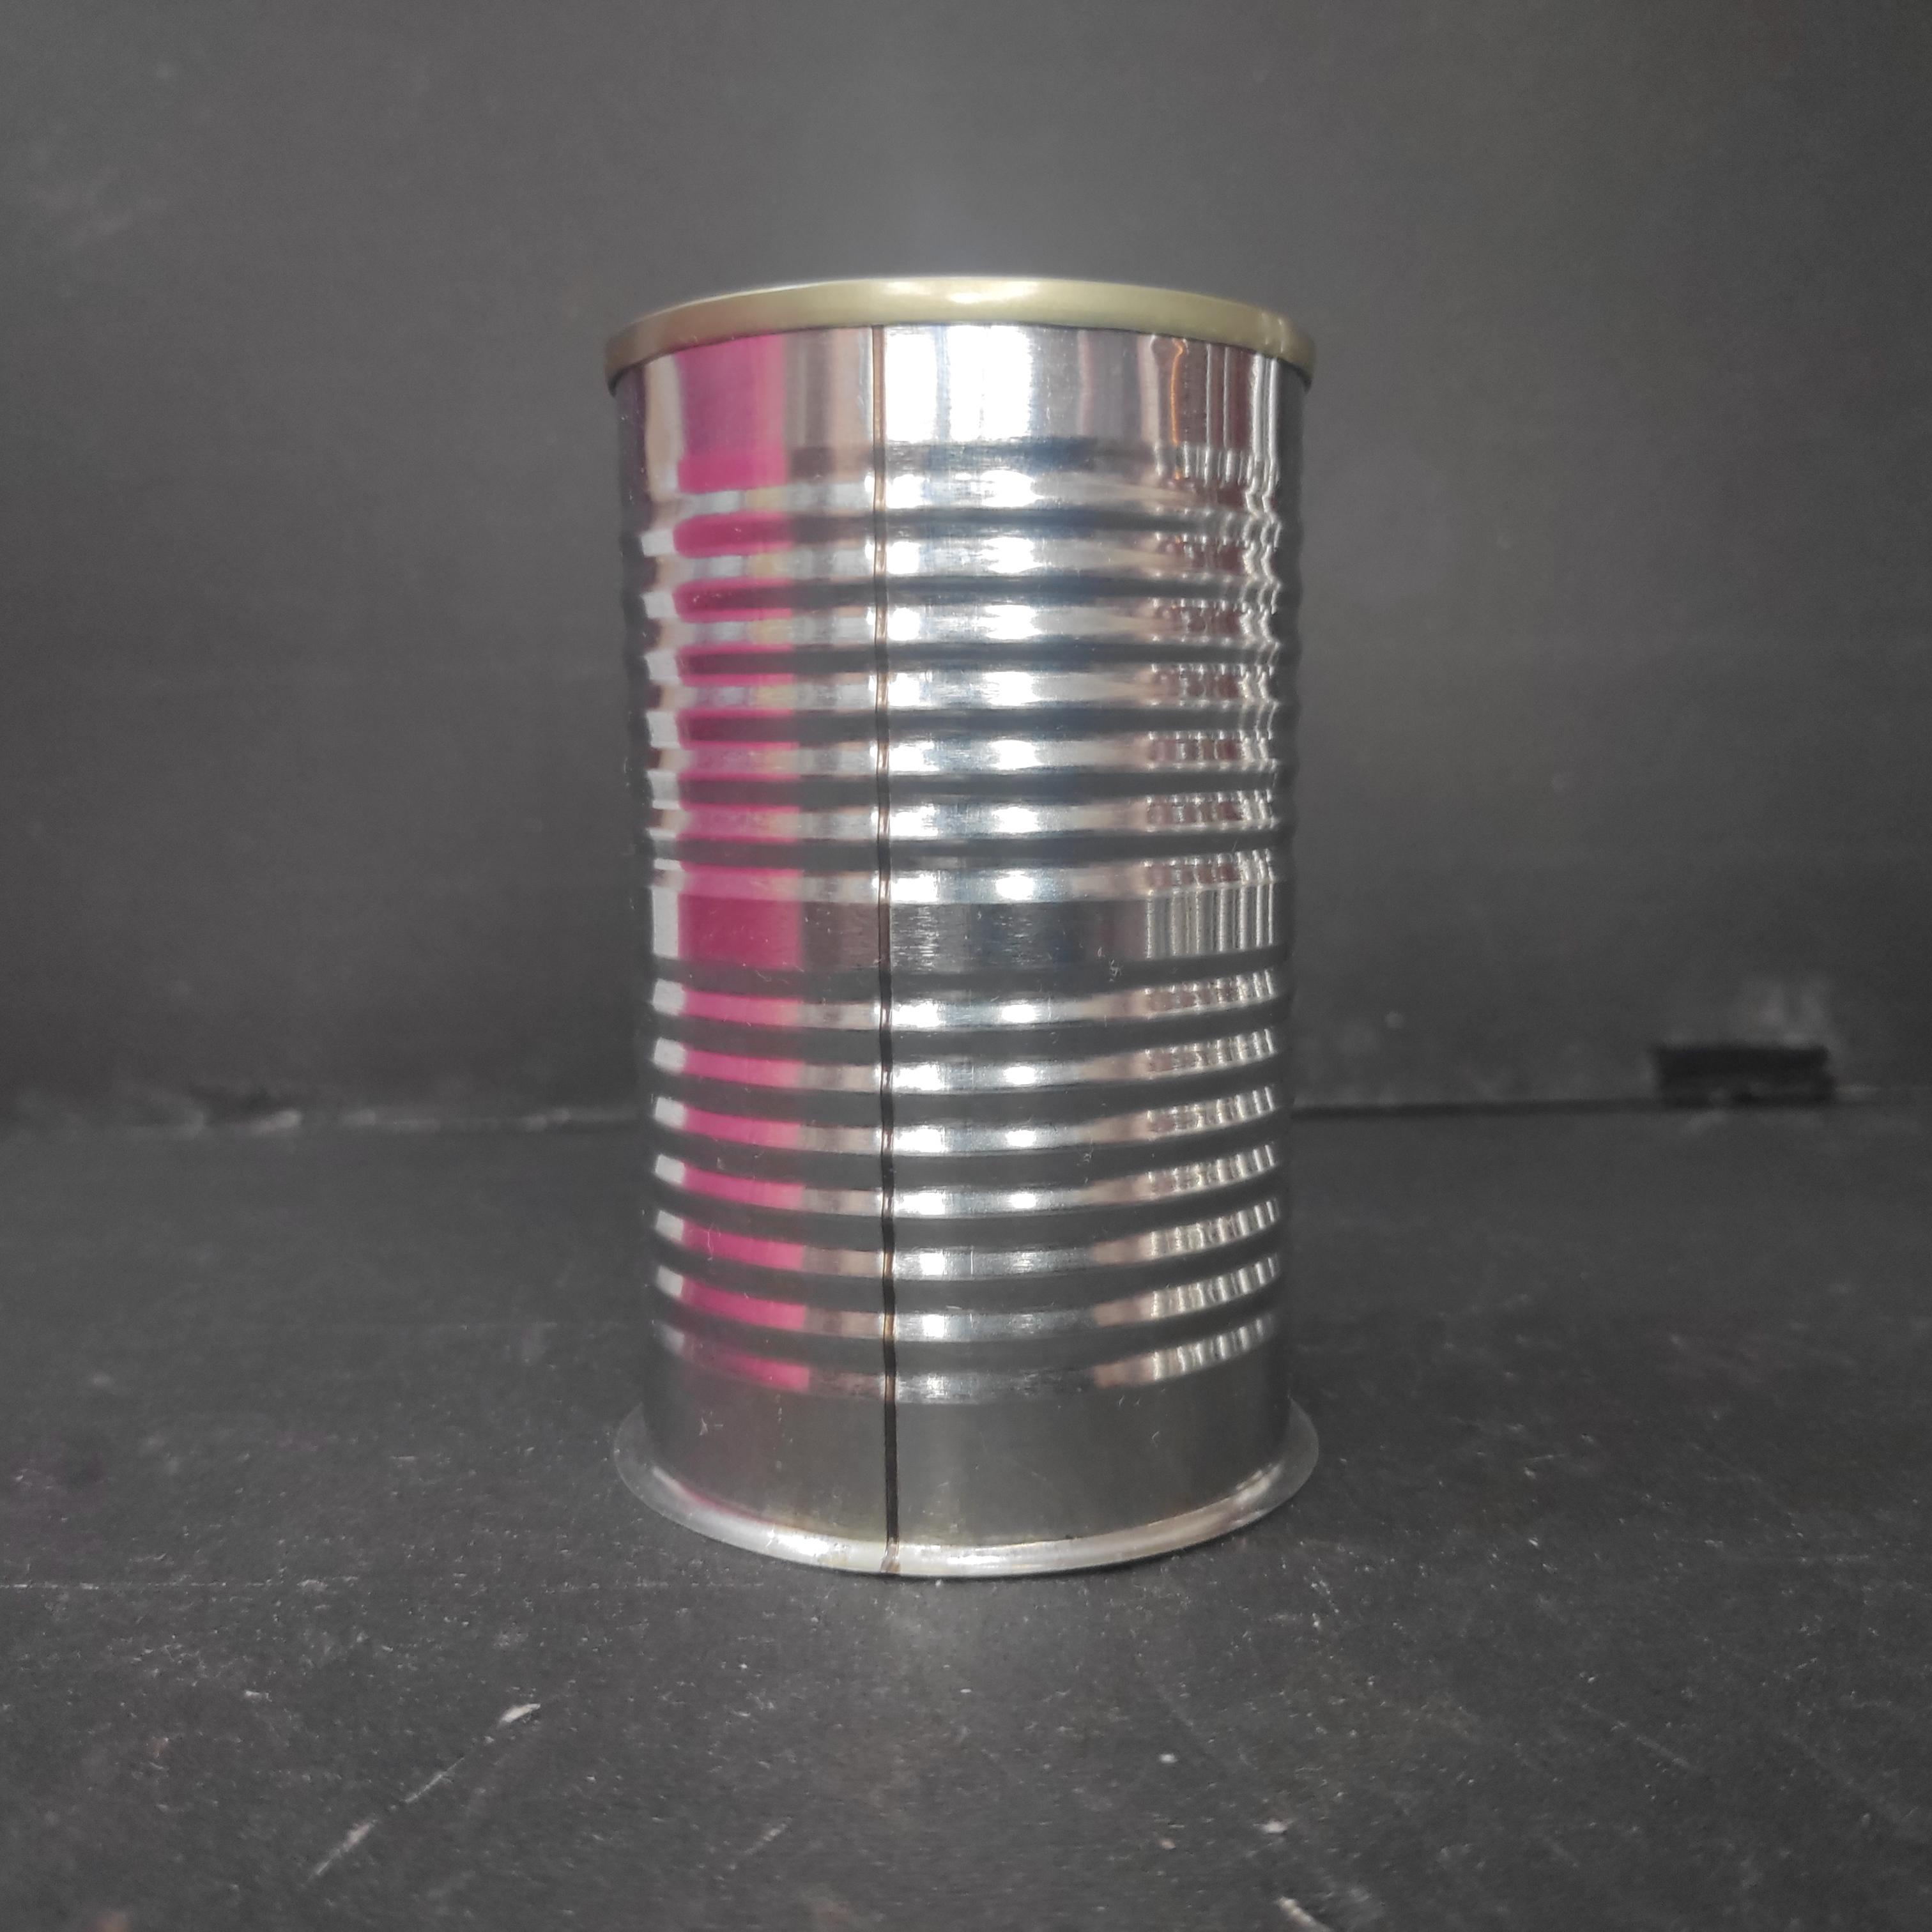No defect: (595, 259, 1327, 1590)
